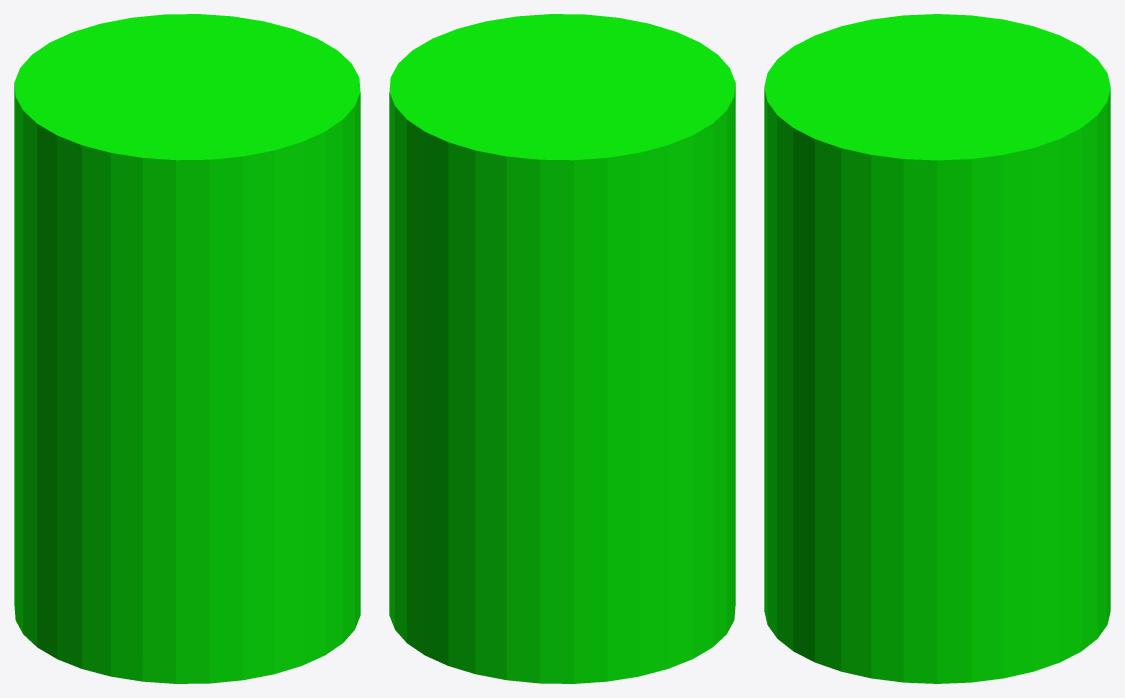
The model's file is TestPlayerFBX.fbx.
3 renders of one model, left to right at view 1: azimuth 30°, elevation 25°; view 2: azimuth 150°, elevation 25°; view 3: azimuth 270°, elevation 25°, orthographic.
Parts seen in each view (by area): view 1: Cylinder; view 2: Cylinder; view 3: Cylinder.
Boxes of the visible parts, x1,y1,x2,y2 form: Cylinder: [14, 14, 360, 683]; Cylinder: [389, 14, 735, 683]; Cylinder: [764, 14, 1110, 683].
Bounding box in the file's own units: 150 × 250 × 150.
